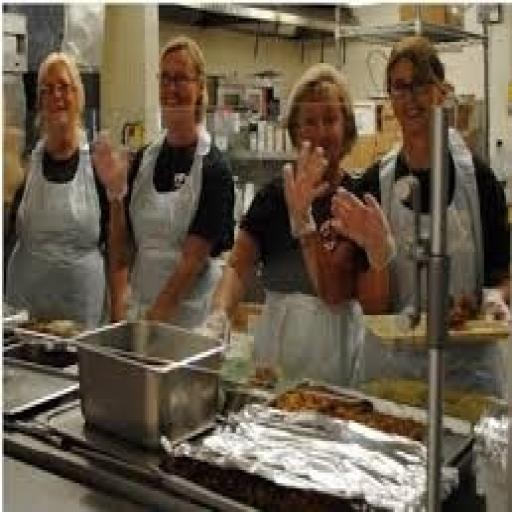eating: (331, 34, 510, 318), (101, 34, 238, 334), (4, 47, 129, 331)
